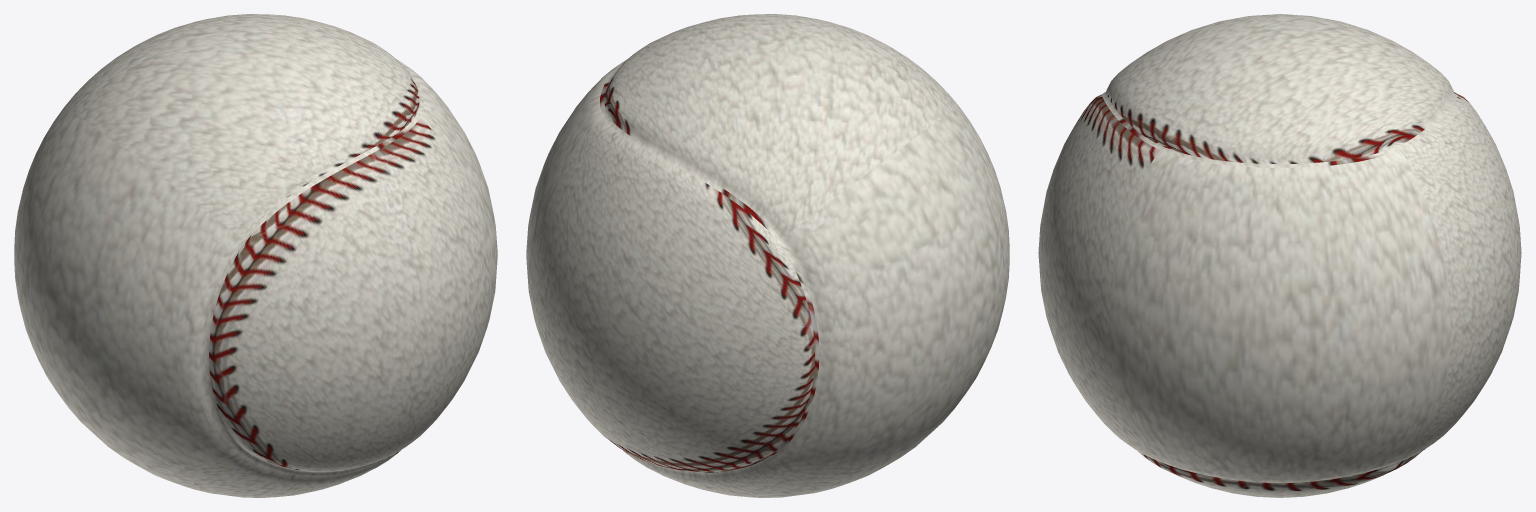
File: pelota_jaulabateo.obj
3 views of the same model, side by side, from view 1: azimuth 30°, elevation 25°; view 2: azimuth 150°, elevation 25°; view 3: azimuth 270°, elevation 25° (orthographic).
Visible parts, largest first — view 1: Pelota; view 2: Pelota; view 3: Pelota.
Part boxes in pixels (bbox=[...]): Pelota: bbox=[14, 14, 497, 497]; Pelota: bbox=[526, 14, 1009, 497]; Pelota: bbox=[1038, 14, 1521, 497].
Bounding box in the file's own units: 2.47 × 2.47 × 2.47.
